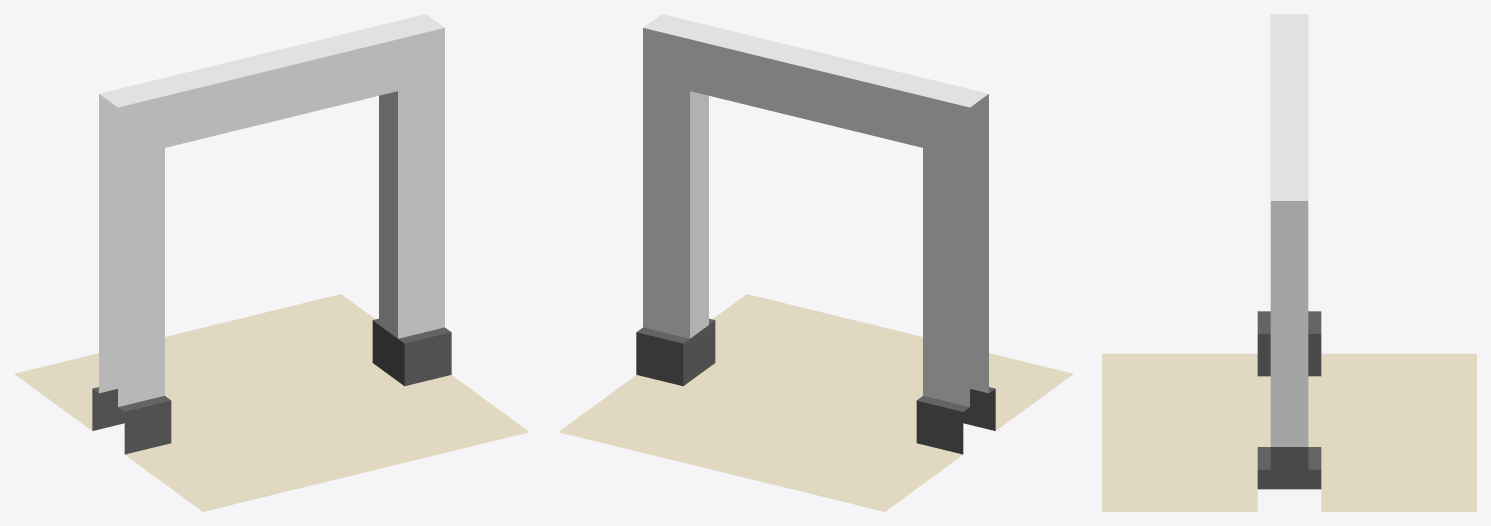
File: I_Wall_Straight_Door_Elevator.fbx
3 renders of one model, left to right at view 1: azimuth 30°, elevation 25°; view 2: azimuth 150°, elevation 25°; view 3: azimuth 270°, elevation 25°, orthographic.
Visible parts, largest first — view 1: I_Wall_Straight_Door_Elevator; view 2: I_Wall_Straight_Door_Elevator; view 3: I_Wall_Straight_Door_Elevator.
Part boxes in pixels (left/top/right/bottom): I_Wall_Straight_Door_Elevator: left=14, top=14, right=529, bottom=511; I_Wall_Straight_Door_Elevator: left=558, top=14, right=1073, bottom=511; I_Wall_Straight_Door_Elevator: left=1102, top=14, right=1476, bottom=511.
Size of the model in its own units: 200 by 200 by 200.
